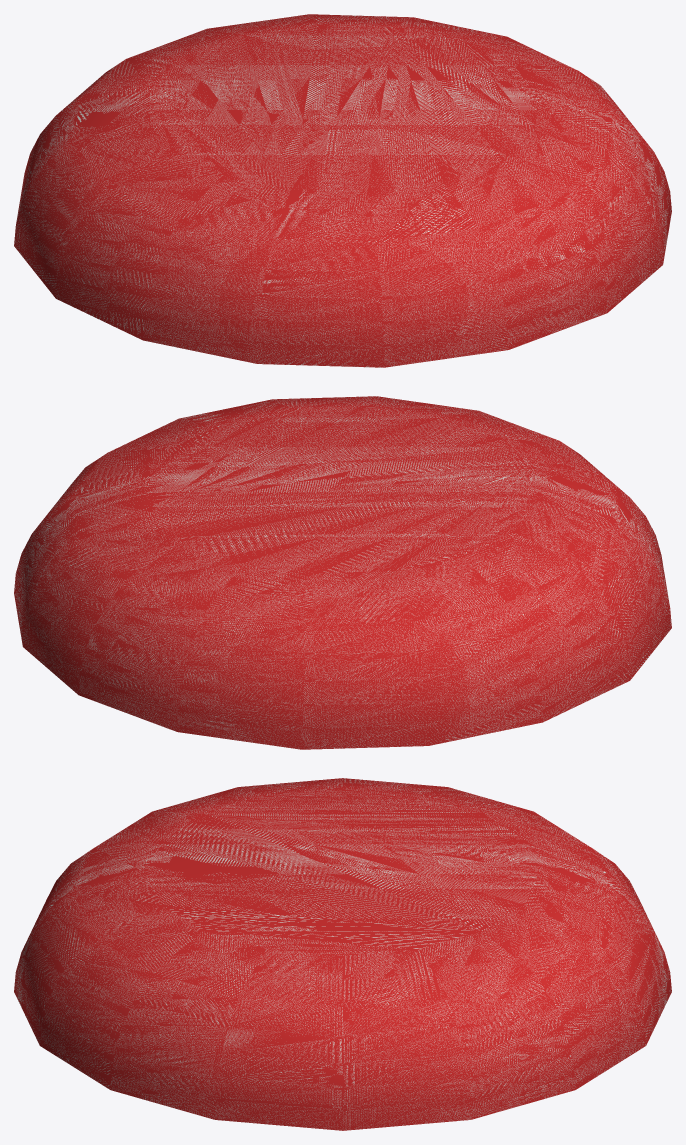
The model's file is original-7.obj.
3 renders of one model, top to bottom at view 1: azimuth 30°, elevation 25°; view 2: azimuth 150°, elevation 25°; view 3: azimuth 270°, elevation 25°, orthographic.
Parts seen in each view (by area): view 1: mesh7/mesh7-geometry#mesh7-geometry; view 2: mesh7/mesh7-geometry#mesh7-geometry; view 3: mesh7/mesh7-geometry#mesh7-geometry.
Part boxes in pixels (x1=…): mesh7/mesh7-geometry#mesh7-geometry: x1=14, y1=14, x2=671, y2=367; mesh7/mesh7-geometry#mesh7-geometry: x1=14, y1=396, x2=671, y2=749; mesh7/mesh7-geometry#mesh7-geometry: x1=14, y1=778, x2=671, y2=1130.
Size of the model in its own units: 0.1106 by 0.0222 by 0.1106.
